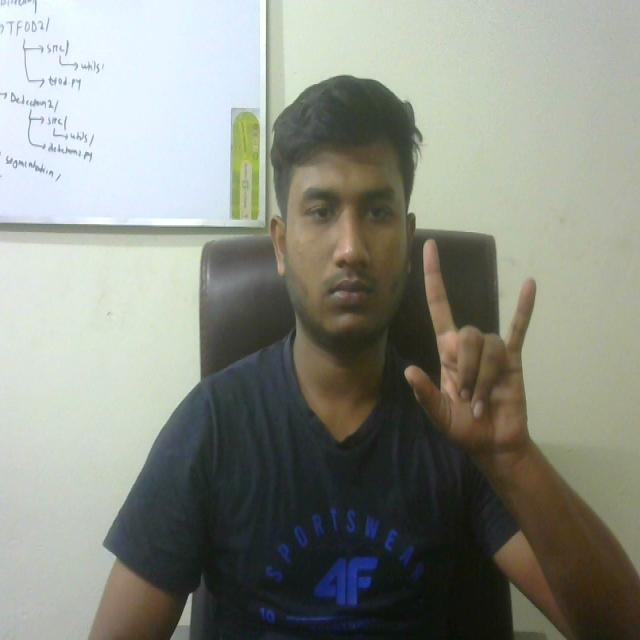I Love You: (386, 220, 567, 489)
